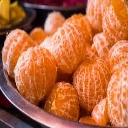orange: (13, 44, 57, 104), (72, 60, 114, 114), (50, 21, 85, 75), (44, 80, 81, 122), (106, 63, 128, 128), (102, 2, 128, 47)
